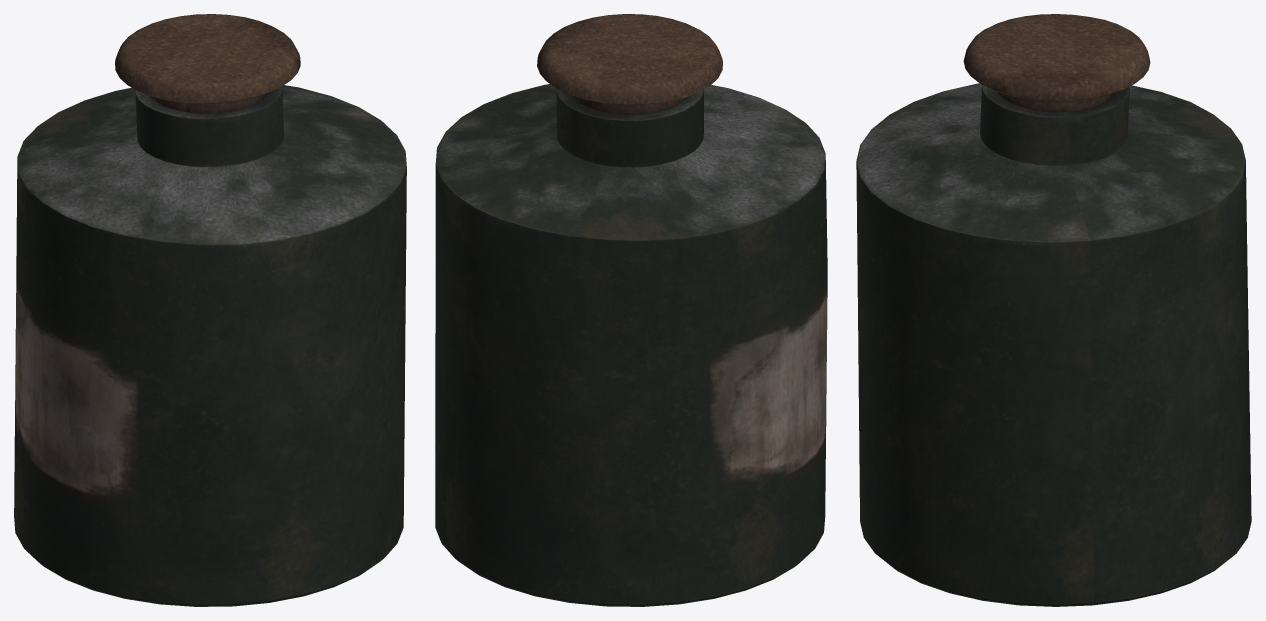
File: SM_Bottles_2.fbx
3 views of the same model, side by side, from view 1: azimuth 30°, elevation 25°; view 2: azimuth 150°, elevation 25°; view 3: azimuth 270°, elevation 25° (orthographic).
Parts seen in each view (by area): view 1: SM_Bottles_2_LOD0; view 2: SM_Bottles_2_LOD0; view 3: SM_Bottles_2_LOD0.
Boxes of the visible parts, x1,y1,x2,y2 form: SM_Bottles_2_LOD0: (14,14,406,606); SM_Bottles_2_LOD0: (435,14,827,606); SM_Bottles_2_LOD0: (856,14,1251,606).
Size of the model in its own units: 22.44 by 22.48 by 30.15.
